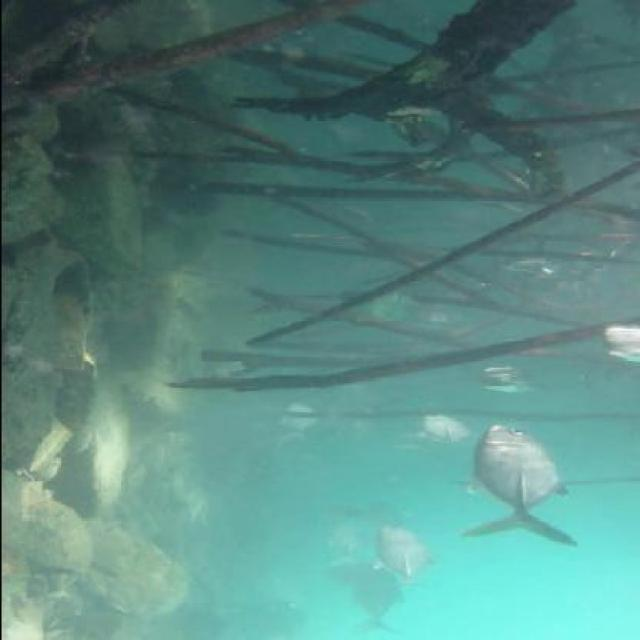Caranx_sexfasciatus_juvenile: (458, 420, 572, 546), (375, 524, 434, 587), (351, 568, 404, 635), (336, 396, 401, 450), (464, 358, 548, 397), (485, 249, 569, 288), (358, 283, 432, 325), (590, 319, 638, 375), (322, 515, 372, 563), (270, 396, 328, 435), (364, 494, 416, 535), (418, 409, 472, 440)
